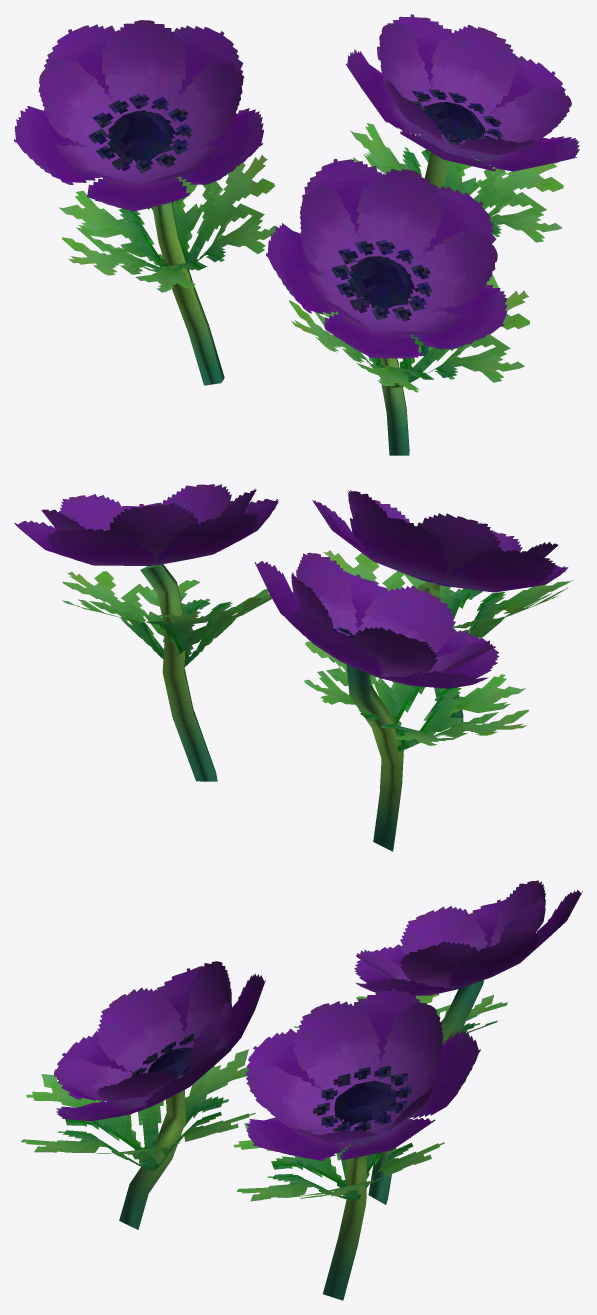
Rendered from purple-windflowers.glb.
The picture shows the model from 3 angles, top to bottom: view 1: azimuth 30°, elevation 25°; view 2: azimuth 150°, elevation 25°; view 3: azimuth 270°, elevation 25°; orthographic projection. The views are drawn at different scales.
Bounding box in the file's own units: 9.97 × 6.03 × 10.17.
2 materials, 2 textured.
